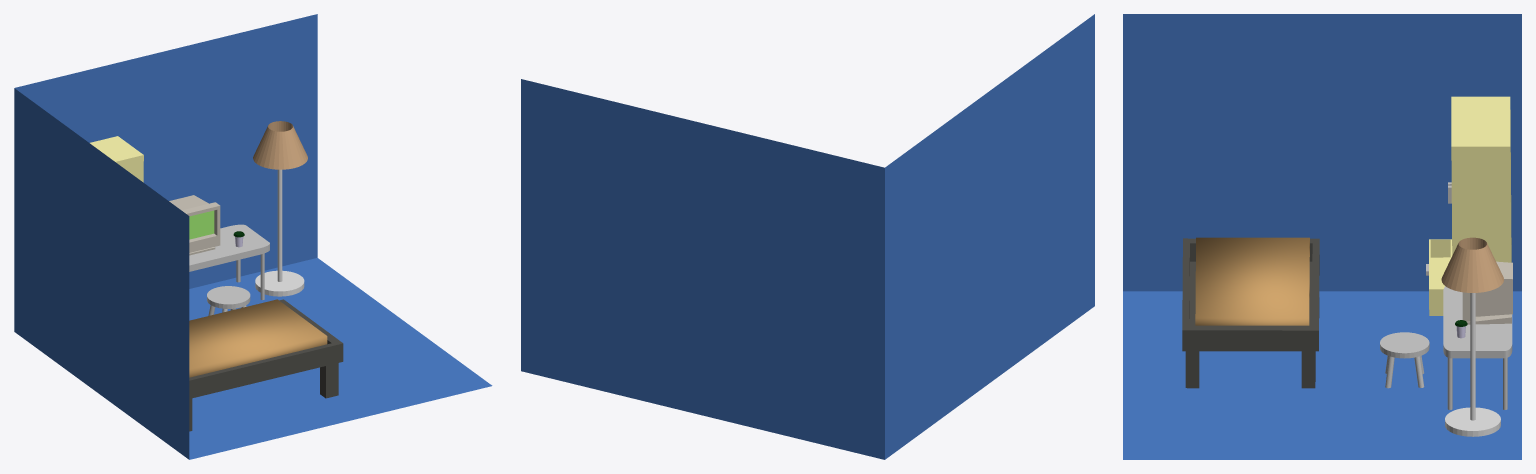
3 renders of one model, left to right at view 1: azimuth 30°, elevation 25°; view 2: azimuth 150°, elevation 25°; view 3: azimuth 270°, elevation 25°, orthographic. The views are drawn at different scales.
Visible parts, largest first — view 1: Plane, bad_cusion_Cube.002, bad__Cube.003, Table_Cube, light_cap_Cylinder.001, computer_Cube.001, light_bottom_Cylinder, cloth_Cube.005, chair_Cylinder.002; view 2: Plane; view 3: Plane, cloth_Cube.005, bad_cusion_Cube.002, bad__Cube.003, Table_Cube, light_cap_Cylinder.001, light_bottom_Cylinder, computer_Cube.001, chair_Cylinder.002.
Boxes of the visible parts, x1,y1,x2,y2 form: Plane: (14,14,492,459); bad_cusion_Cube.002: (189,299,327,377); bad__Cube.003: (189,299,343,431); Table_Cube: (189,224,269,300); light_cap_Cylinder.001: (253,121,307,169); computer_Cube.001: (169,195,220,255); light_bottom_Cylinder: (255,169,304,296); cloth_Cube.005: (90,136,143,182); chair_Cylinder.002: (207,286,250,315); Plane: (521,14,1094,459); Plane: (1123,14,1521,459); cloth_Cube.005: (1426,96,1511,315); bad_cusion_Cube.002: (1195,237,1309,325); bad__Cube.003: (1182,238,1319,388); Table_Cube: (1443,286,1512,409); light_cap_Cylinder.001: (1441,237,1503,292); light_bottom_Cylinder: (1445,293,1500,436); computer_Cube.001: (1462,261,1512,324); chair_Cylinder.002: (1380,332,1429,388).
Size of the model in its own units: 12.23 by 9.39 by 12.23.
